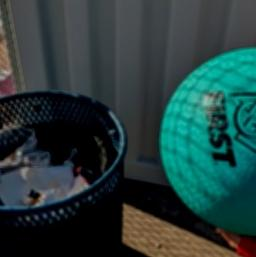algae: (156, 44, 256, 233)
